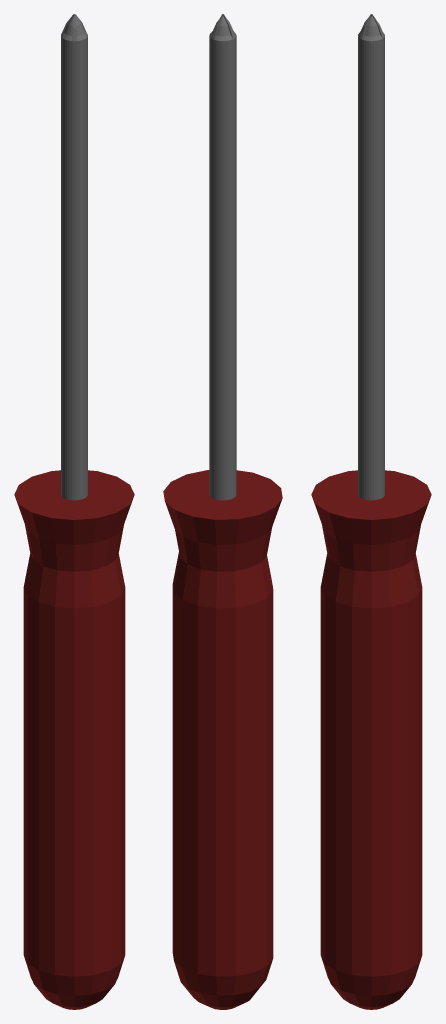
Rendered from Screwdriver.glb.
The picture shows the model from 3 angles, left to right: view 1: azimuth 90°, elevation 25°; view 2: azimuth 150°, elevation 25°; view 3: azimuth 270°, elevation 25°; orthographic projection.
Parts seen in each view (by area): view 1: Cylinder, Cylinder.001; view 2: Cylinder, Cylinder.001; view 3: Cylinder, Cylinder.001.
Part boxes in pixels (bbox=[...]): Cylinder: bbox=[14, 470, 134, 1009]; Cylinder.001: bbox=[61, 14, 87, 500]; Cylinder: bbox=[163, 470, 282, 1009]; Cylinder.001: bbox=[209, 14, 236, 500]; Cylinder: bbox=[311, 470, 431, 1009]; Cylinder.001: bbox=[358, 14, 384, 500].
Size of the model in its own units: 0.1778 by 1.61 by 0.1778.
